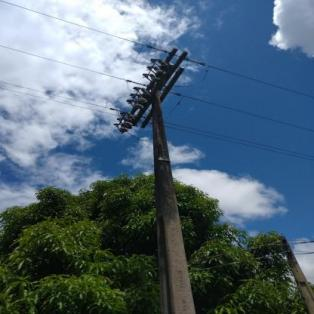Poste: (141, 86, 198, 314)
